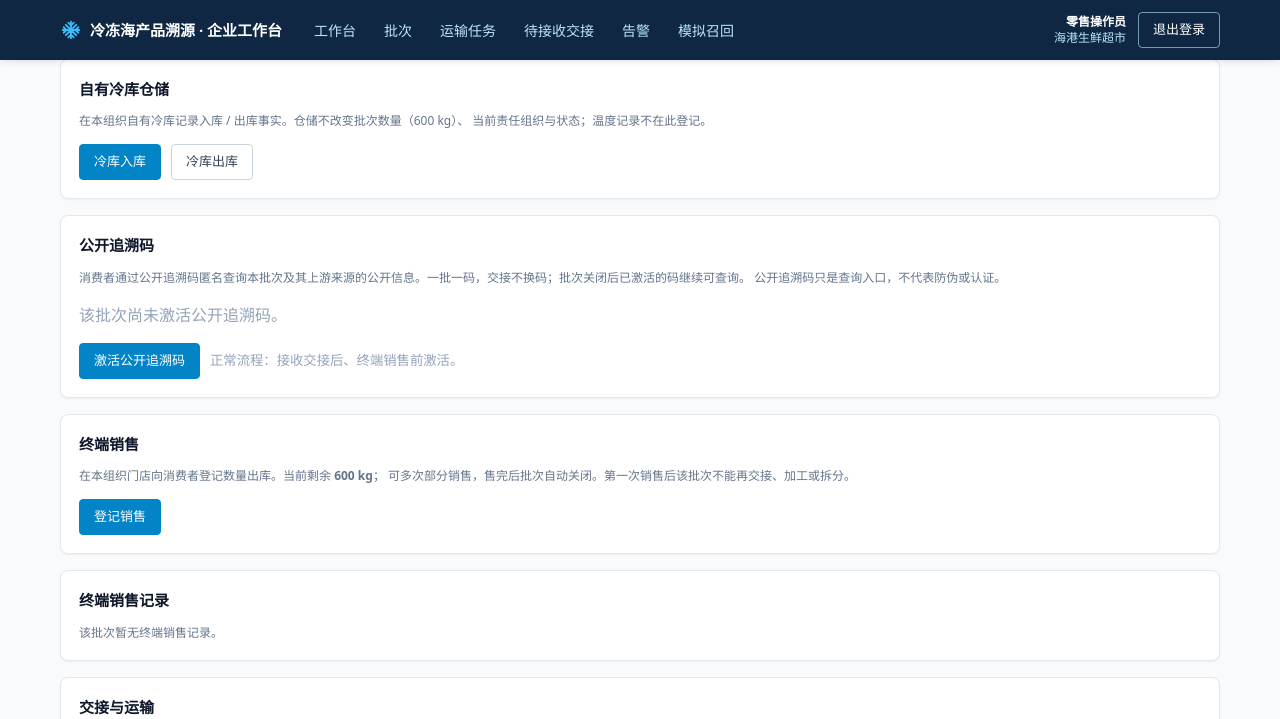
Scenario: PublicTraceCode panel › retries an activation with an unknown outcome using the same Idempotency-Key
(page scrolled)
Click the button with test id "public-code-activate" at point(140, 360), box [79,342,200,378]
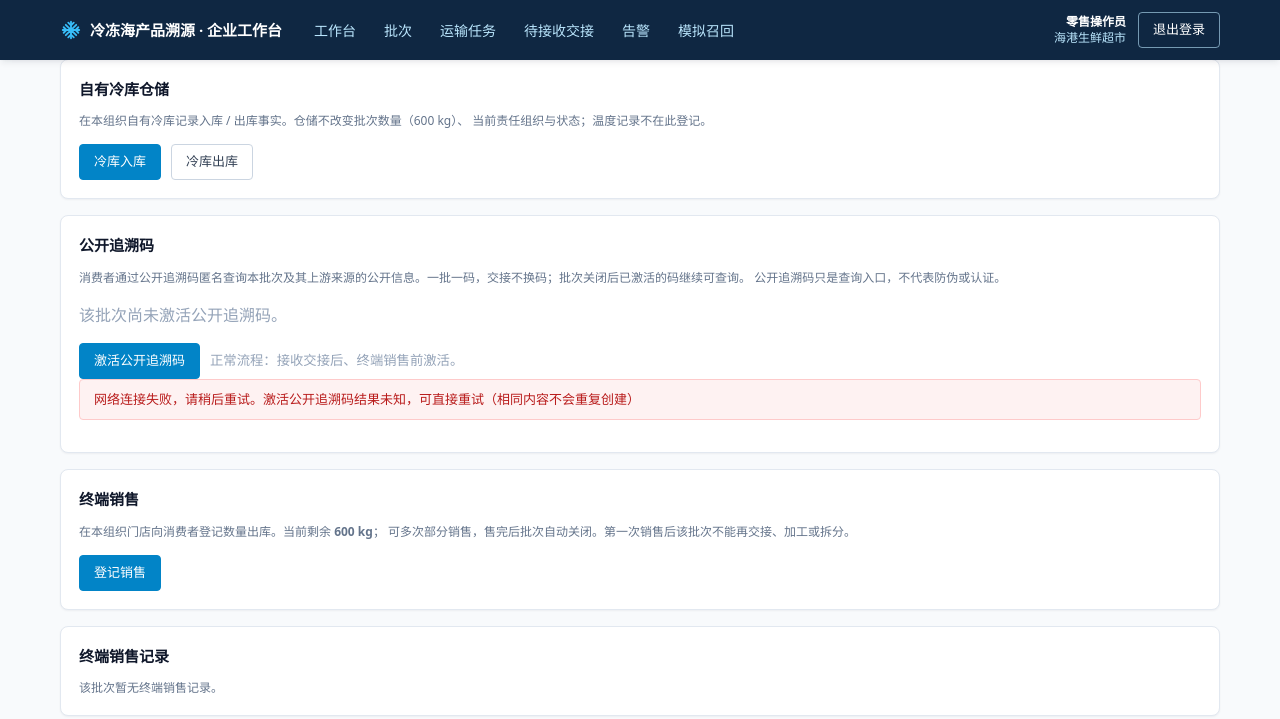
Now the message with test id "public-code-error" is shown, box [79,378,1201,420]
Click the button with test id "public-code-activate" at point(140, 360), box [79,342,200,378]
(page scrolled)
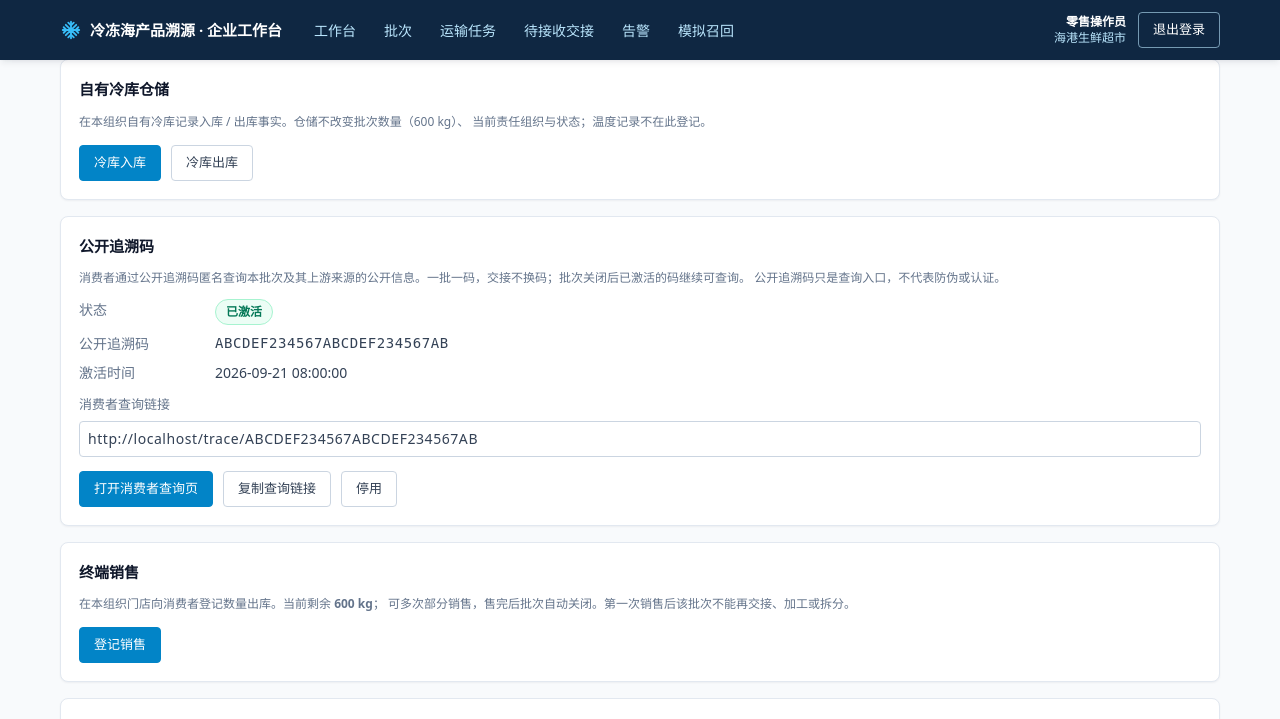
Now the text with test id "public-code-value" reads "ABCDEF234567ABCDEF234567AB", box [215,335,449,351]
